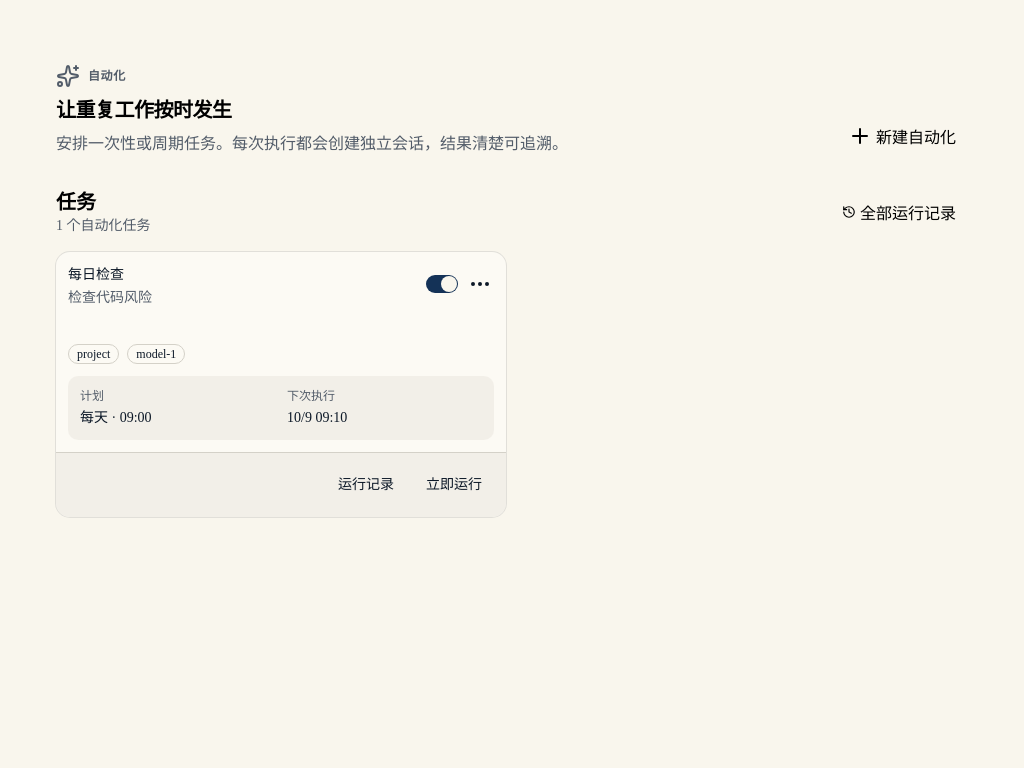
automationsPage › 打开运行记录时从后端读取而不是使用模拟数据
Expected: the text "每日检查" is shown once, [68,266,124,282]
Click the button "运行记录" at (366, 485), box [326,465,406,505]
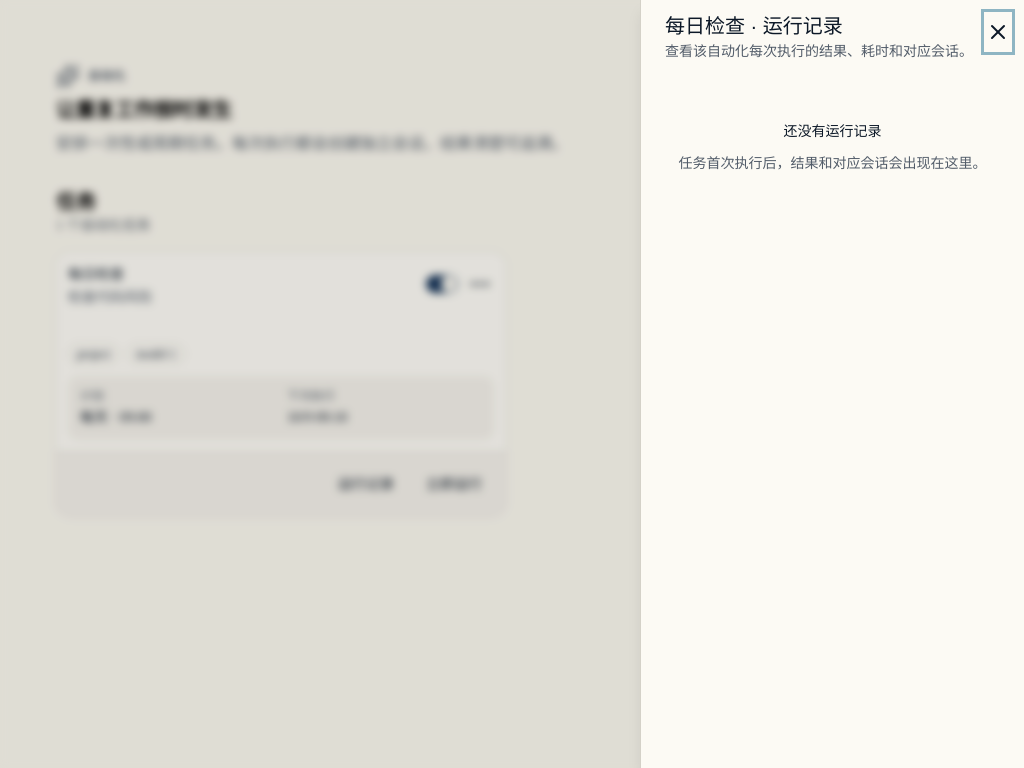
Expected: the text "还没有运行记录" is shown, [784,122,882,142]
